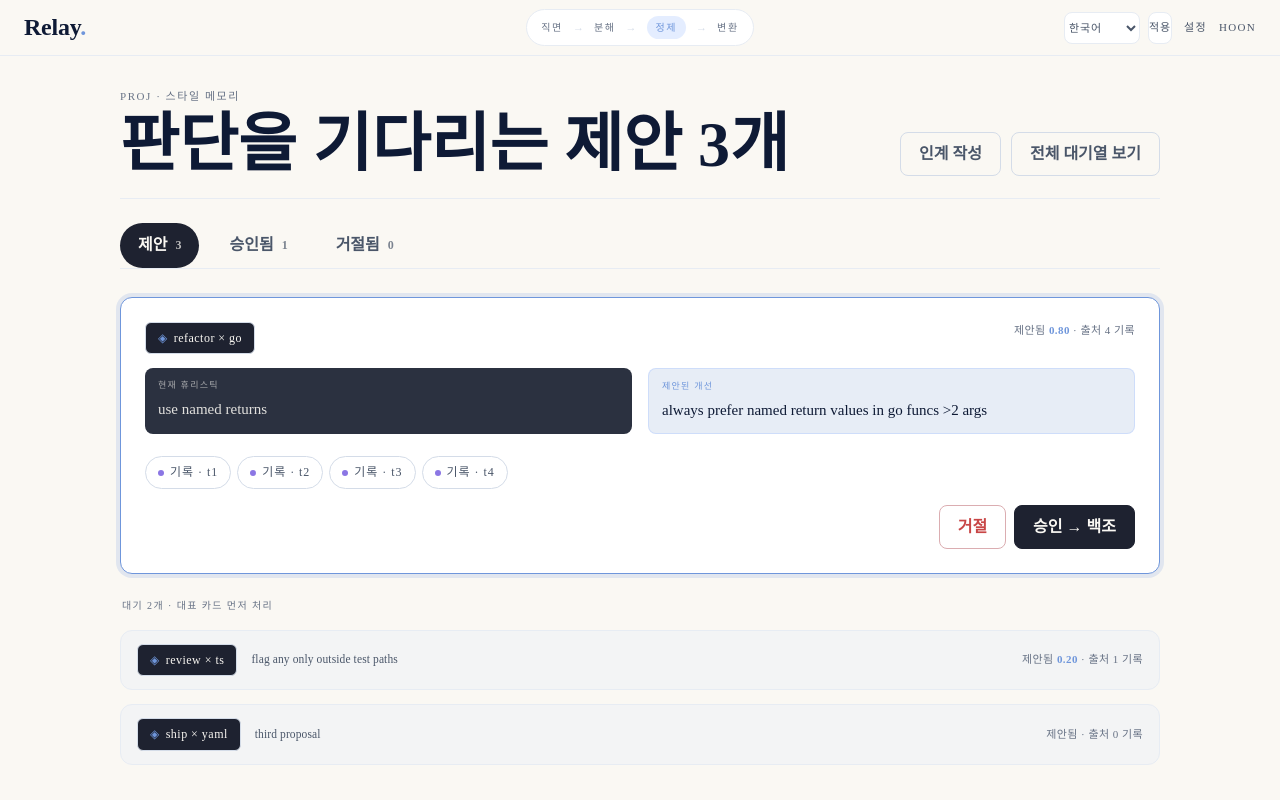
Scenario: reject overlay › renders Korean chrome and uses the localized reject reason in the toast
Expected: the tab named "제안3" is shown, [120, 223, 200, 268]
What coordinates should you click on to do the following:
click the button "거절"
I would click on:
 (972, 527)
Its box is [939, 505, 1006, 549].
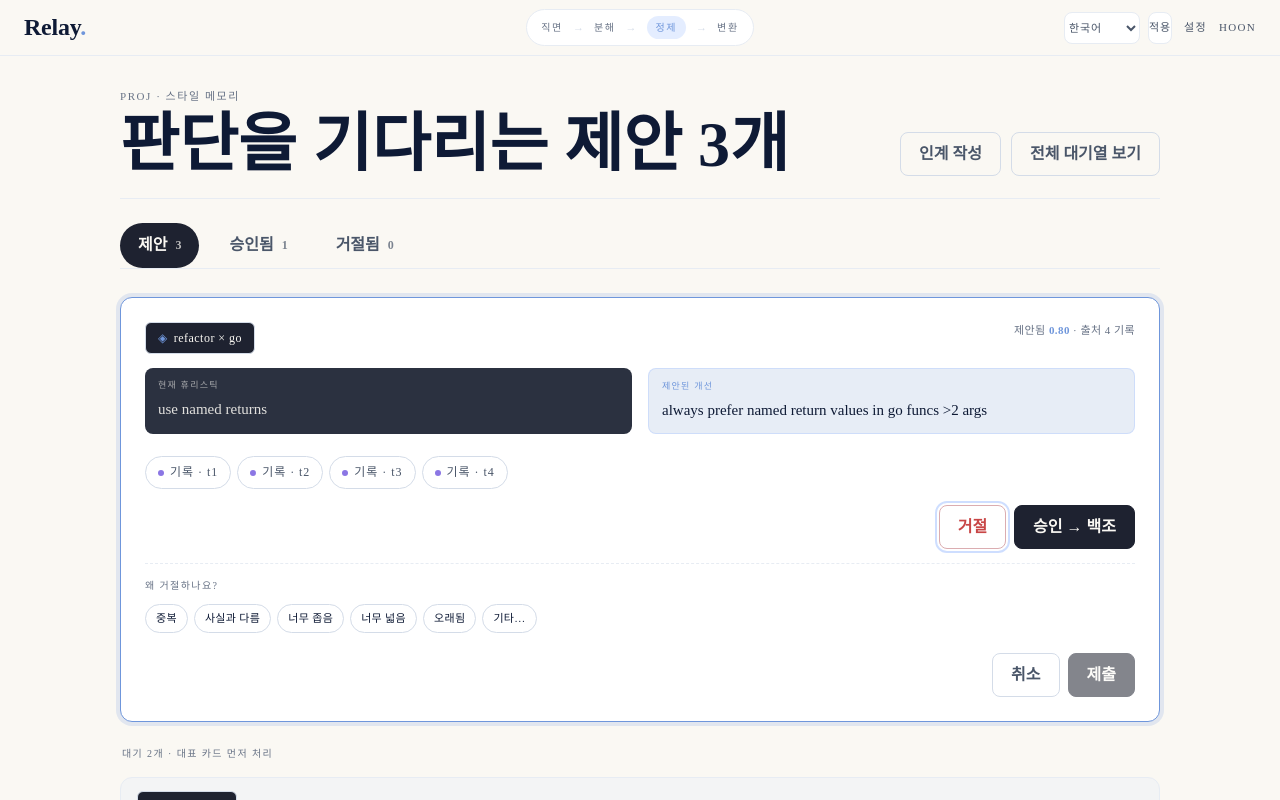
Result: the text "왜 거절하나요?" is shown at [145, 580, 218, 591]
What coordinates should you click on to do the following:
click the button with test id "reject-chip-stale"
I would click on:
 (450, 618)
Its box is [423, 604, 476, 632].
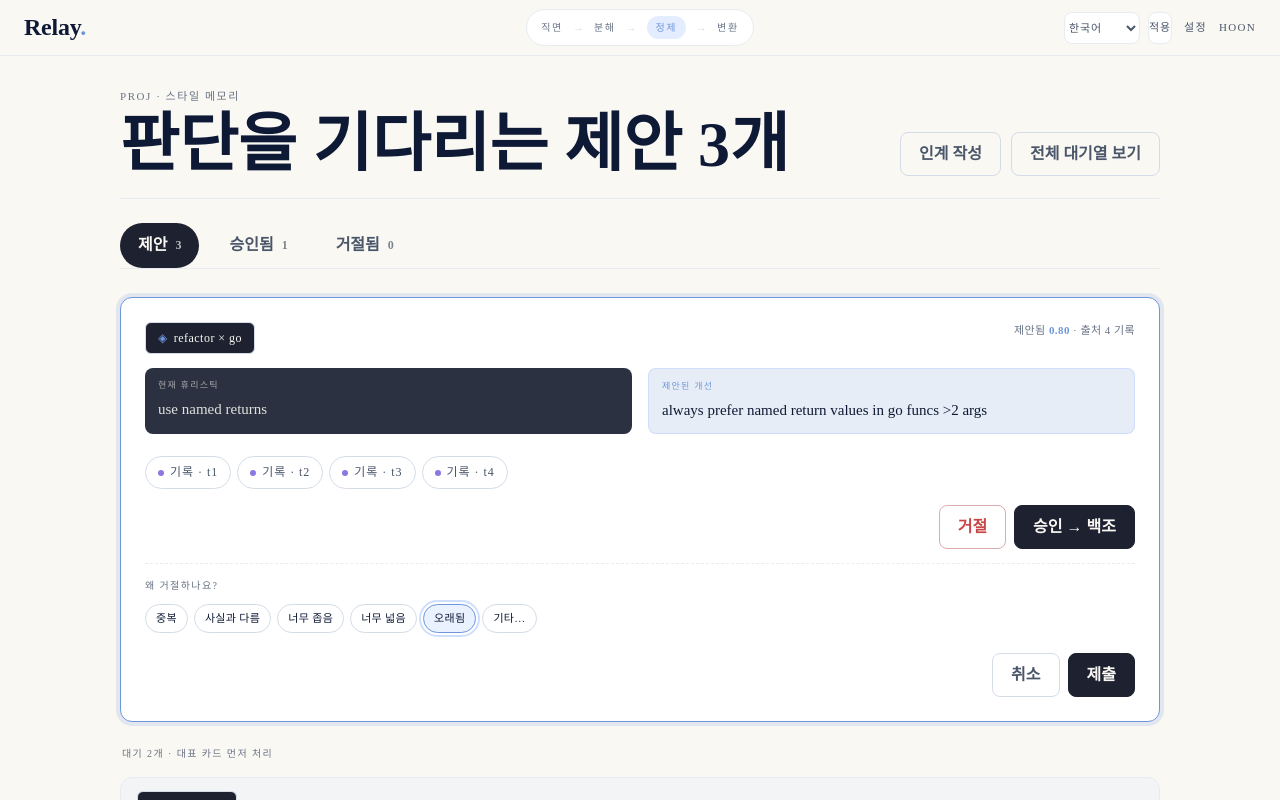
What coordinates should you click on to do the following:
click the button with test id "reject-submit"
I would click on:
 (1101, 675)
Its box is [1068, 653, 1135, 697].
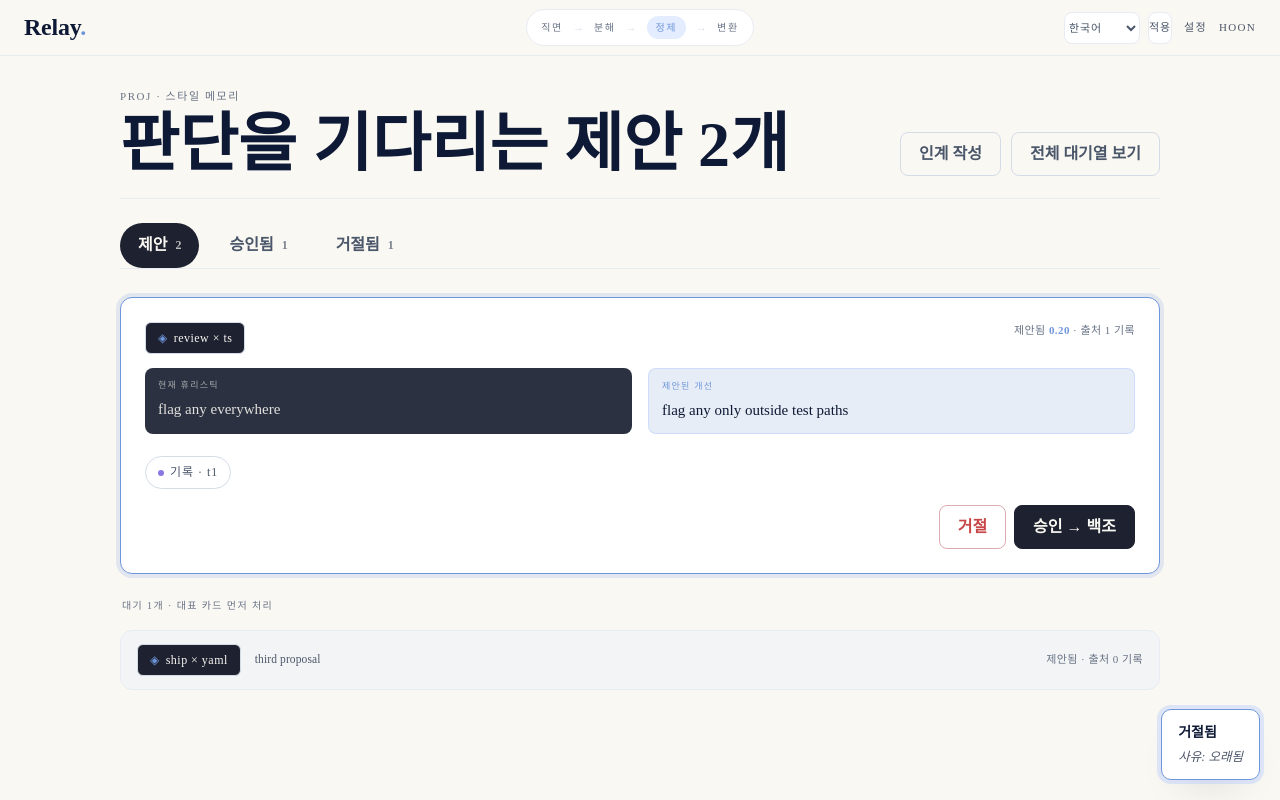
Result: the text "사유: 오래됨" is shown at [1178, 748, 1243, 767]
